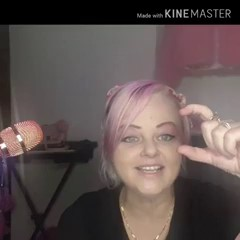C: (175, 101, 239, 177)
